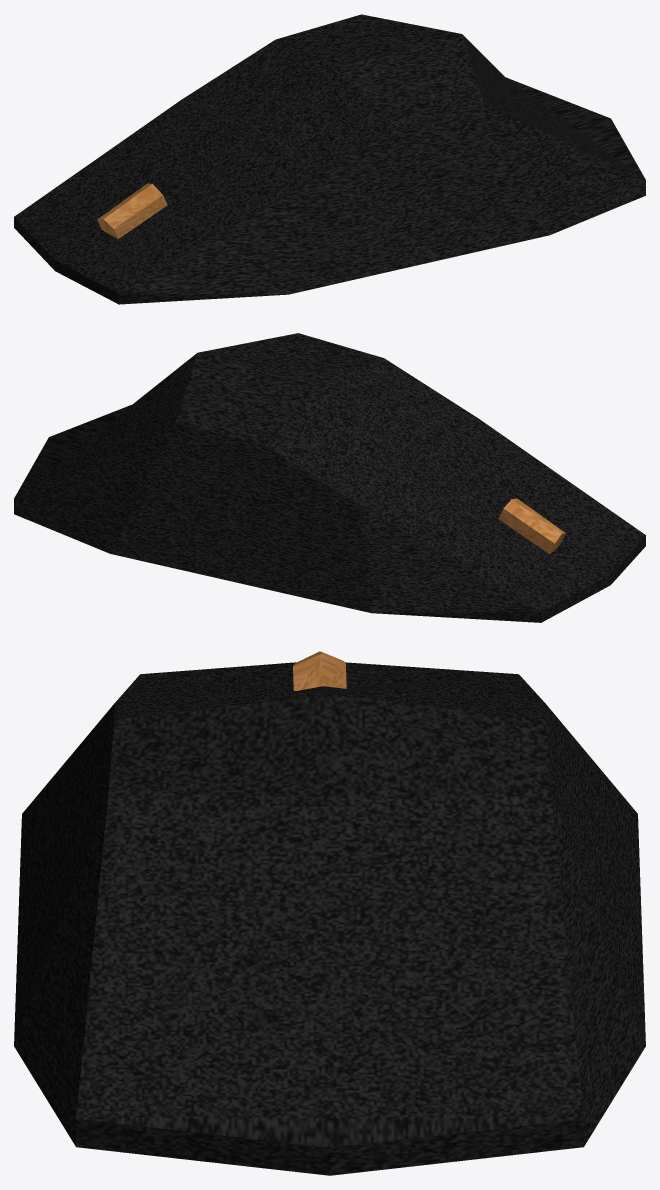
File: Mouse.fbx
The picture shows the model from 3 angles, top to bottom: view 1: azimuth 30°, elevation 25°; view 2: azimuth 150°, elevation 25°; view 3: azimuth 270°, elevation 25°; orthographic projection. The views are drawn at different scales.
Visible parts, largest first — view 1: Mouse; view 2: Mouse; view 3: Mouse.
Part boxes in pixels (<box>): Mouse: <box>14,14,645,304</box>; Mouse: <box>14,333,645,622</box>; Mouse: <box>14,651,645,1175</box>.
Bounding box in the file's own units: 34.88 × 8.21 × 18.91.
1 material, 1 textured.
